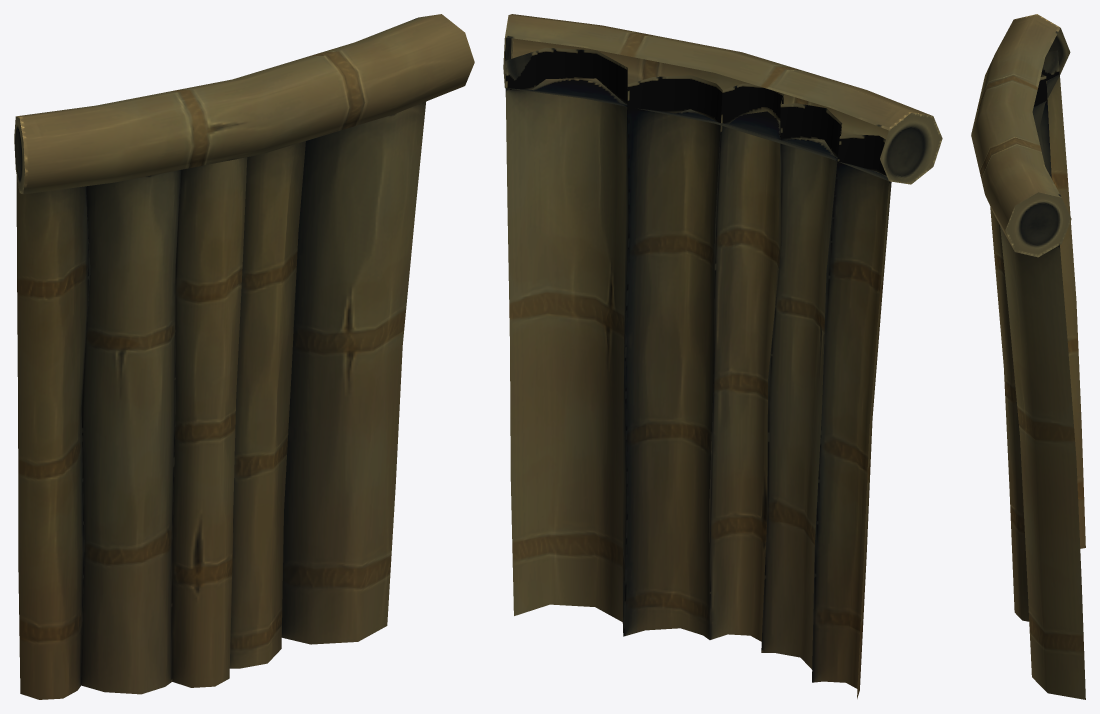
The model's file is bamboo_house_wall.FBX.
3 renders of one model, left to right at view 1: azimuth 30°, elevation 25°; view 2: azimuth 150°, elevation 25°; view 3: azimuth 270°, elevation 25°, orthographic. The views are drawn at different scales.
Visible parts, largest first — view 1: bamboo_house_wall; view 2: bamboo_house_wall; view 3: bamboo_house_wall.
Boxes of the visible parts, x1=… form: bamboo_house_wall: x1=14, y1=14, x2=474, y2=699; bamboo_house_wall: x1=503, y1=14, x2=942, y2=698; bamboo_house_wall: x1=971, y1=14, x2=1085, y2=699.
Bounding box in the file's own units: 287 × 368 × 73.39.
